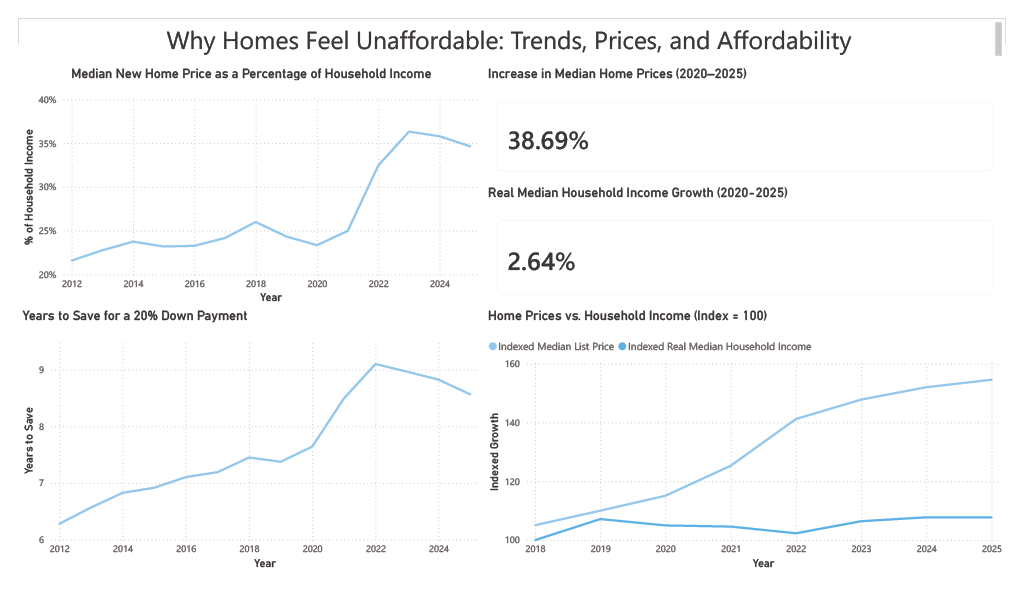

Layout of this report page (visuals, bound fields, positions):
{"tool":"powerbi","page":{"name":"Overview Dashboard","canvas":[1280,720],"ordinal":0},"visuals":[{"type":"lineChart","title":"Home Prices vs. Household Income (Index = 100)","fields":{"Y":["Avg(Median List Price.Indexed Median List Price)","Avg(Macro Economic Data.Indexed Real Median Household Income)"],"Category":["Median List Price.Date.Variation.Date Hierarchy.Year"]},"box":[603.6,375.2,676.1,344.8],"z":0},{"type":"lineChart","title":"Median New Home Price as a Percentage of Household Income","fields":{"Category":["Median New Home Cost as % of Income.Date.Variation.Date Hierarchy.Year"],"Y":["Avg(Median New Home Cost as % of Income.Median New Home Cost as % of Income)"]},"box":[0,60.9,603.6,314.3],"z":1000},{"type":"cardVisual","title":"Increase in Median Home Prices (2020–2025)","fields":{"Data":["Median Sale Price.Percent Change From 2020 to 2025"]},"box":[603.6,60.9,676.1,154],"z":3000},{"type":"textbox","box":[0,0,1279.7,60.9],"z":4000},{"type":"lineChart","title":"Years to Save for a 20% Down Payment","fields":{"Y":["Avg(Median Years to Save 20% Downpayment.Median Years to Save 20% Downpayment)"],"Category":["Median Years to Save 20% Downpayment.Date.Variation.Date Hierarchy.Year"]},"box":[0,375.2,603.6,343.9],"z":5000},{"type":"cardVisual","title":"Real Median Household Income Growth (2020-2025)","fields":{"Data":["Macro Economic Data.Percent Increase In Real Median Household Income"]},"box":[603.6,214.9,676.1,160.3],"z":6000}]}

Visuals, with their boxes in screenshot pixels (x1, y1, x2, y2), scaled from the page's 1280x720 canvas onto the 1024x592 screenshot:
"Home Prices vs. Household Income (Index = 100)" lineChart: pyautogui.locateOnScreen(483, 308, 1023, 591)
"Median New Home Price as a Percentage of Household Income" lineChart: pyautogui.locateOnScreen(0, 50, 483, 308)
"Increase in Median Home Prices (2020–2025)" cardVisual: pyautogui.locateOnScreen(483, 50, 1023, 177)
textbox: pyautogui.locateOnScreen(0, 0, 1023, 50)
"Years to Save for a 20% Down Payment" lineChart: pyautogui.locateOnScreen(0, 308, 483, 591)
"Real Median Household Income Growth (2020-2025)" cardVisual: pyautogui.locateOnScreen(483, 177, 1023, 308)
